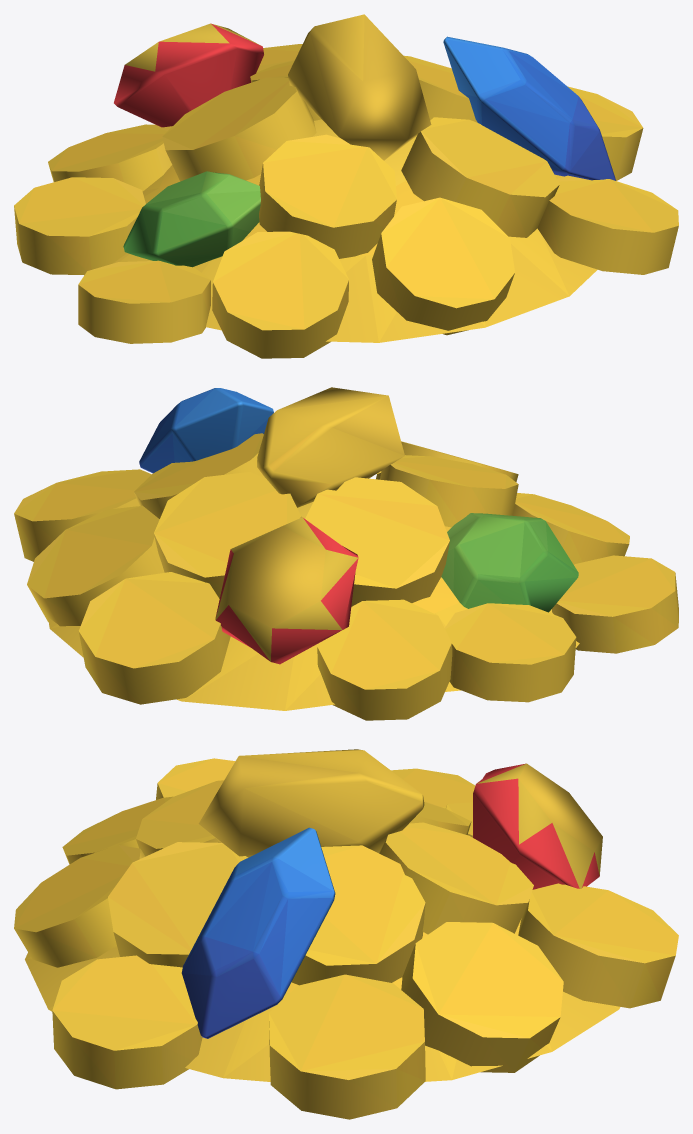
File: item_coin.glb
The picture shows the model from 3 angles, top to bottom: view 1: azimuth 30°, elevation 25°; view 2: azimuth 150°, elevation 25°; view 3: azimuth 270°, elevation 25°; orthographic projection. The views are drawn at different scales.
Parts seen in each view (by area): view 1: item_mesh; view 2: item_mesh; view 3: item_mesh.
Boxes of the visible parts, bbox=[...] form: item_mesh: bbox=[14, 14, 678, 358]; item_mesh: bbox=[14, 387, 678, 720]; item_mesh: bbox=[14, 749, 678, 1119].
Size of the model in its own units: 0.78 by 0.25 by 0.695.
1 material, 1 textured.
